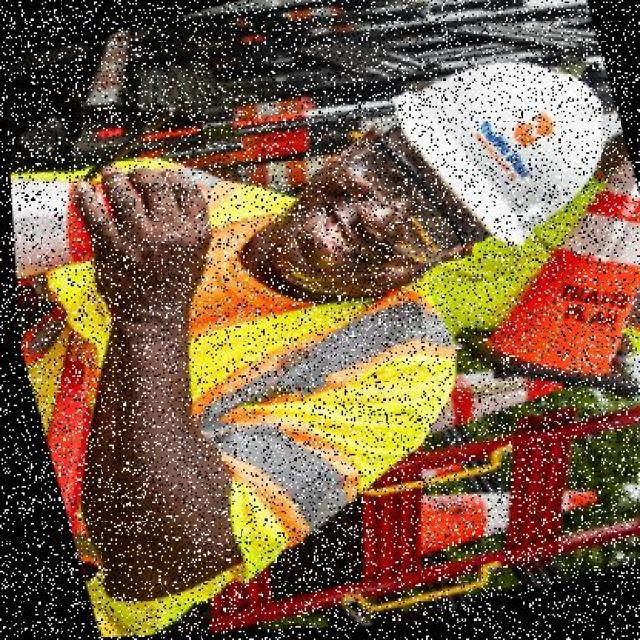helmet: (374, 34, 638, 280)
vest: (15, 151, 415, 638)
